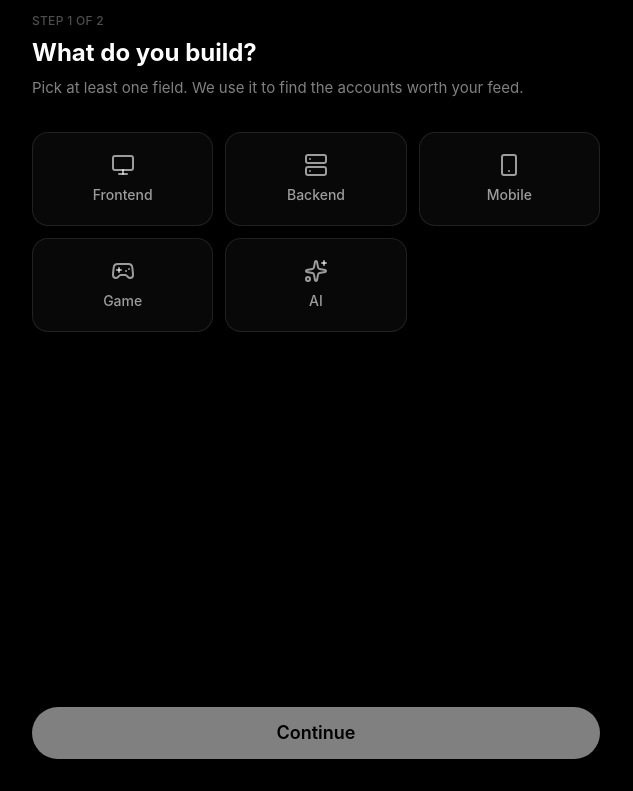
Test: OnboardingPage › holds the finish button shut below the required follows
Click the button "Backend": (316, 178) [225,132,407,226]
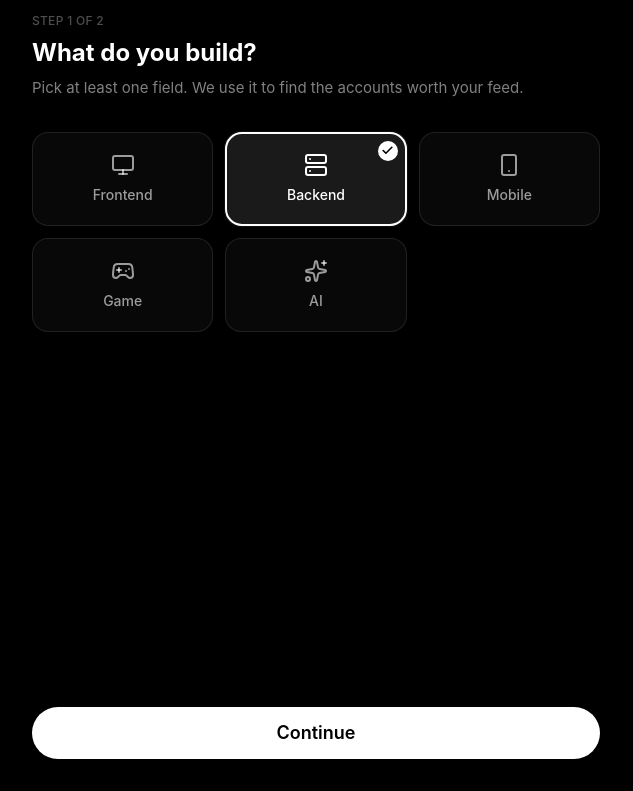
Click the button "Continue": (316, 733) [32,707,600,759]
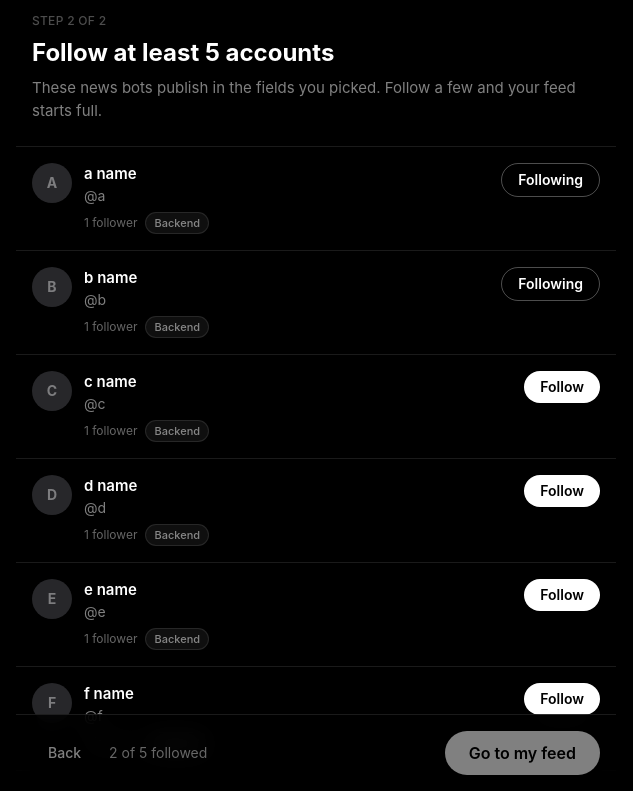
Expected: the button "Go to my feed" is disabled, [445,731,600,775]
Expected: the text "2 of 5 followed" is shown, [109,744,207,761]
